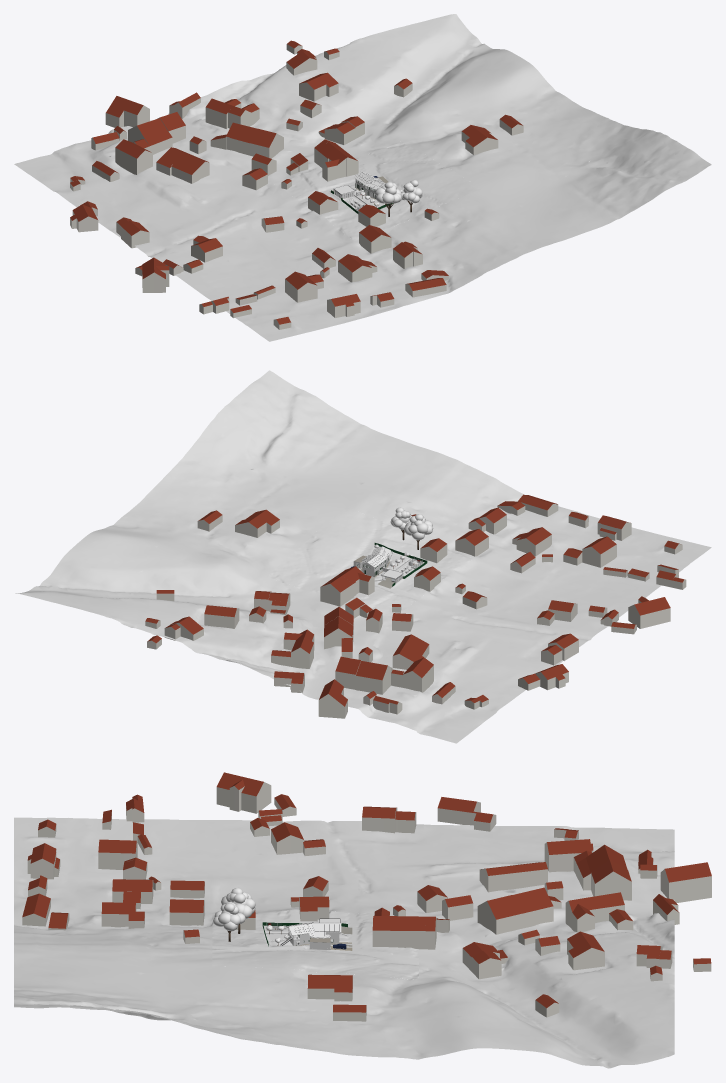
Rendered from haus.glb.
The picture shows the model from 3 angles, top to bottom: view 1: azimuth 30°, elevation 25°; view 2: azimuth 150°, elevation 25°; view 3: azimuth 270°, elevation 25°; orthographic projection. The views are drawn at different scales.
Visible parts, largest first — view 1: Gelände Umgebung (DGM1), Gelände Grundstück (geplant), Nachbar 4362702, Nachbar 4362635, Nachbar 4362704, Nachbar 4362626, Nachbar 4362629, Nachbar 23753811, Nachbar 4362630, Nachbar 4362632, Nachbar 4362679, Nachbar 4362631 (+14 smaller); view 2: Gelände Umgebung (DGM1), Gelände Grundstück (geplant), Nachbar 4362702, Nachbar 4362629, Nachbar 4362635, Nachbar 4362630, Nachbar 105009024, Nachbar 4362679, Nachbar 4362704, Nachbar 21144093, Nachbar 23753811, Nachbar 4362697 (+8 smaller); view 3: Gelände Umgebung (DGM1), Gelände Grundstück (geplant), Nachbar 4362702, Nachbar 4362629, Nachbar 4362635, Nachbar 4362704, Nachbar 4362632, Nachbar 105009024, Nachbar 4362634, Nachbar 4362697, Nachbar 23753811, Nachbar 4362626 (+21 smaller).
Part boxes in pixels (x1,y1,x2,y2): Gelände Umgebung (DGM1): [14, 14, 711, 341]; Gelände Grundstück (geplant): [275, 141, 480, 241]; Nachbar 4362702: [115, 118, 172, 174]; Nachbar 4362635: [105, 96, 149, 127]; Nachbar 4362704: [165, 147, 209, 183]; Nachbar 4362626: [322, 148, 358, 181]; Nachbar 4362629: [142, 257, 169, 292]; Nachbar 23753811: [299, 72, 338, 101]; Nachbar 4362630: [461, 125, 498, 154]; Nachbar 4362632: [250, 128, 283, 158]; Nachbar 4362679: [285, 271, 317, 302]; Nachbar 4362631: [329, 116, 364, 144]; Gelände Umgebung (DGM1): [15, 370, 711, 743]; Gelände Grundstück (geplant): [267, 507, 473, 617]; Nachbar 4362702: [355, 657, 433, 694]; Nachbar 4362629: [628, 596, 670, 628]; Nachbar 4362635: [318, 679, 347, 718]; Nachbar 4362630: [235, 509, 279, 537]; Nachbar 105009024: [541, 633, 578, 665]; Nachbar 4362679: [582, 536, 616, 567]; Nachbar 4362704: [392, 634, 429, 669]; Nachbar 21144093: [516, 527, 551, 556]; Nachbar 23753811: [204, 605, 239, 628]; Nachbar 4362697: [324, 616, 353, 649]; Gelände Umgebung (DGM1): [14, 817, 674, 1068]; Gelände Grundstück (geplant): [212, 910, 418, 979]; Nachbar 4362702: [544, 839, 627, 890]; Nachbar 4362629: [216, 772, 271, 813]; Nachbar 4362635: [660, 862, 711, 902]; Nachbar 4362704: [479, 862, 547, 892]; Nachbar 4362632: [477, 895, 521, 934]; Nachbar 105009024: [362, 806, 416, 833]; Nachbar 4362634: [591, 859, 631, 900]; Nachbar 4362697: [512, 887, 553, 928]; Nachbar 23753811: [567, 931, 604, 970]; Nachbar 4362626: [372, 907, 406, 947].
Bounding box in the file's own units: 252 × 38.97 × 243.
